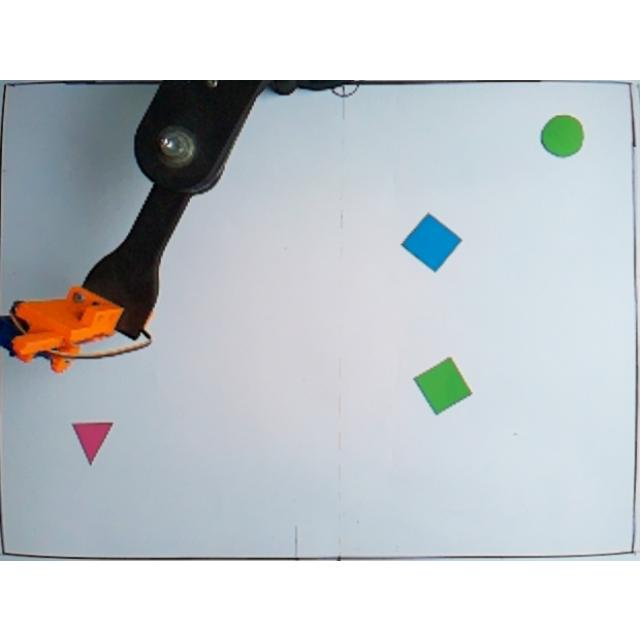blueSquare: (400, 210, 462, 272)
greenCircle: (539, 112, 587, 158)
greenSquare: (413, 355, 473, 415)
pinkTriangle: (71, 418, 115, 466)
